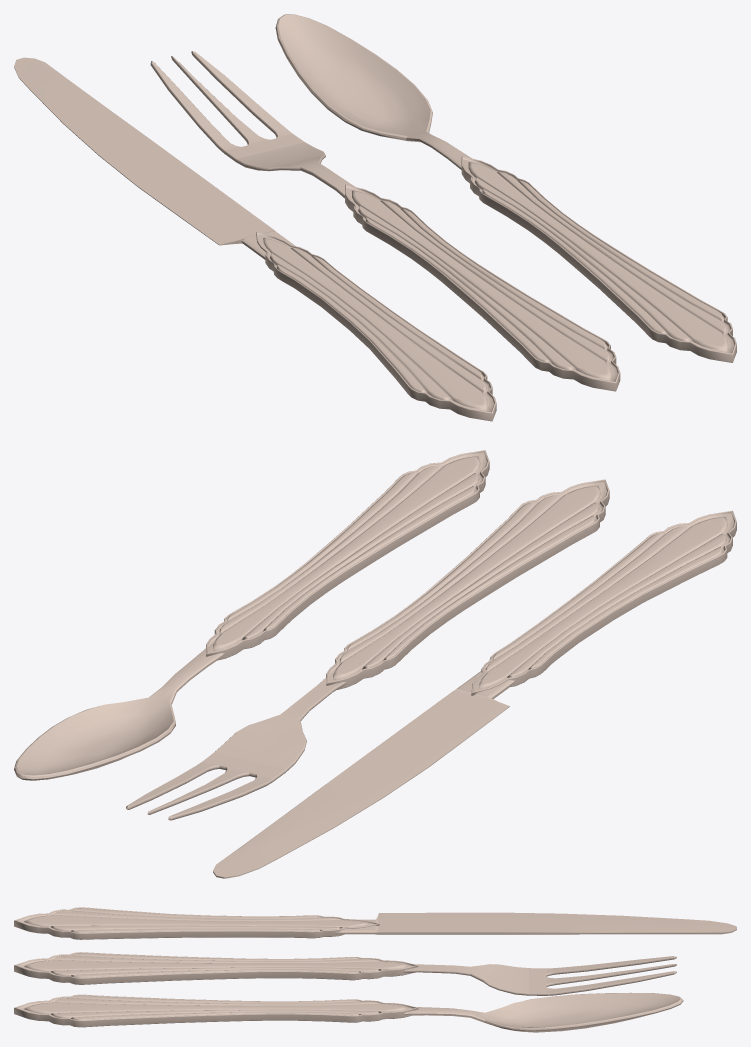
The model's file is Cutlery.fbx.
The picture shows the model from 3 angles, top to bottom: view 1: azimuth 30°, elevation 25°; view 2: azimuth 150°, elevation 25°; view 3: azimuth 270°, elevation 25°; orthographic projection. The views are drawn at different scales.
Parts seen in each view (by area): view 1: Spoon, Knife, Folk; view 2: Knife, Spoon, Folk; view 3: Knife, Spoon, Folk.
Boxes of the visible parts, x1,y1,x2,y2 form: Spoon: [275, 14, 736, 362]; Knife: [14, 57, 496, 421]; Folk: [150, 51, 620, 391]; Knife: [213, 510, 736, 878]; Spoon: [14, 450, 489, 780]; Folk: [126, 479, 609, 820]; Knife: [14, 907, 736, 939]; Spoon: [14, 992, 683, 1032]; Folk: [14, 952, 676, 995].
Bounding box in the file's own units: 4.78 × 0.5181 × 12.5.
